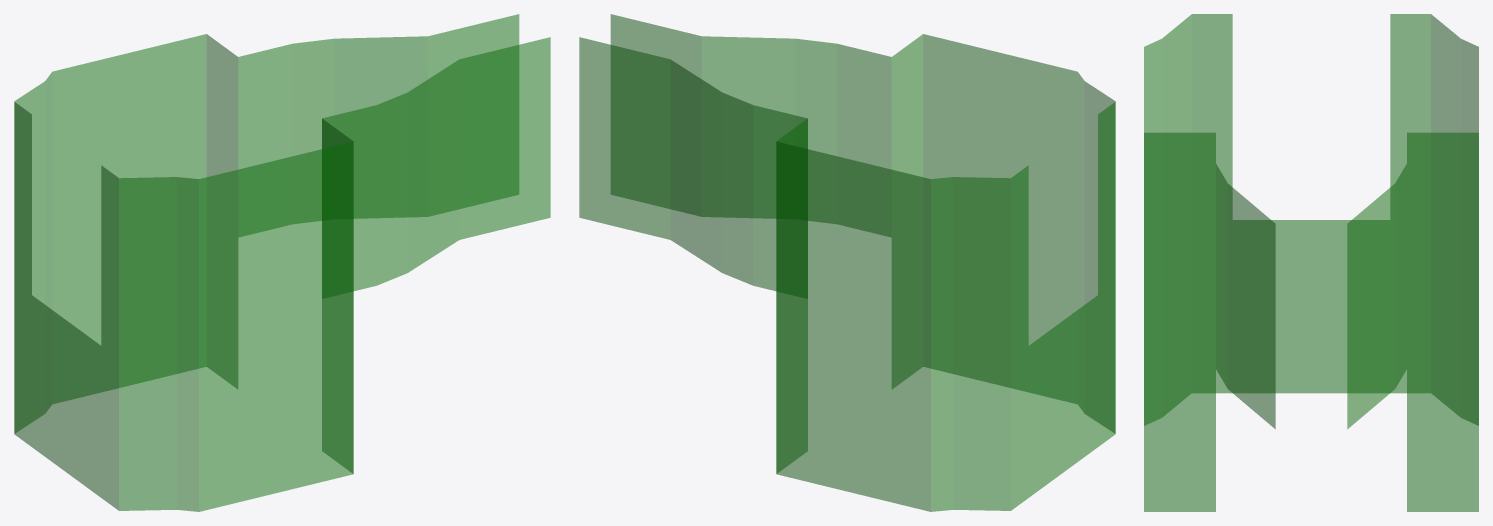
Rendered from D07_wall01.obj.
3 views of the same model, side by side, from view 1: azimuth 30°, elevation 25°; view 2: azimuth 150°, elevation 25°; view 3: azimuth 270°, elevation 25° (orthographic). The views are drawn at different scales.
Bounding box in the file's own units: 51.55 × 35 × 28.
